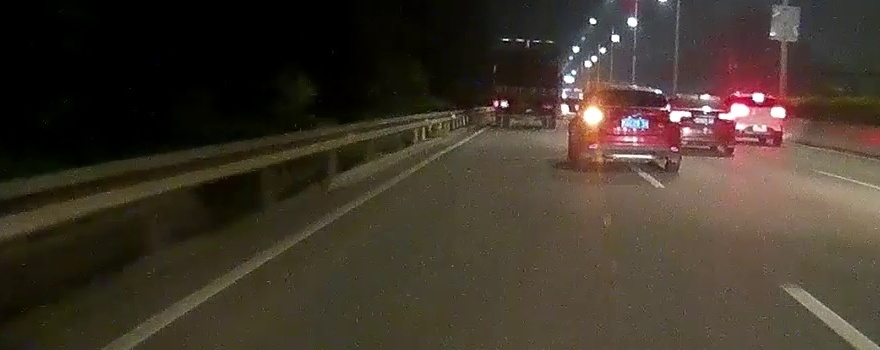L_light: (584, 109, 605, 125), (735, 107, 748, 116), (493, 100, 508, 107)
R_light: (666, 111, 681, 125), (771, 109, 785, 117), (541, 102, 556, 109)
T_light: (620, 90, 636, 94), (754, 95, 763, 99), (522, 42, 534, 45)
day-left: (492, 39, 560, 129)
night-brake: (730, 92, 785, 146)
night-left: (582, 84, 683, 174)
